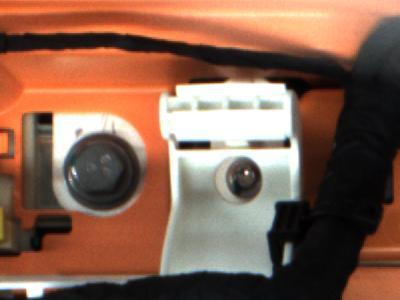nut_b: (60, 130, 146, 213)
